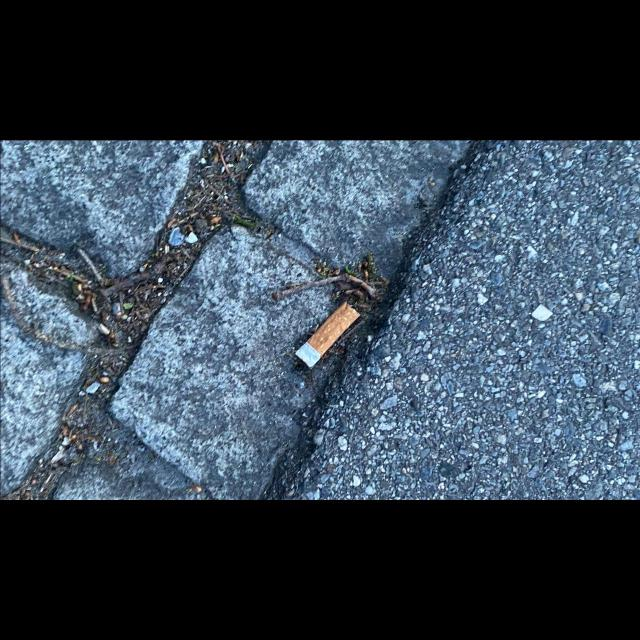cigarette: (293, 301, 360, 368)
